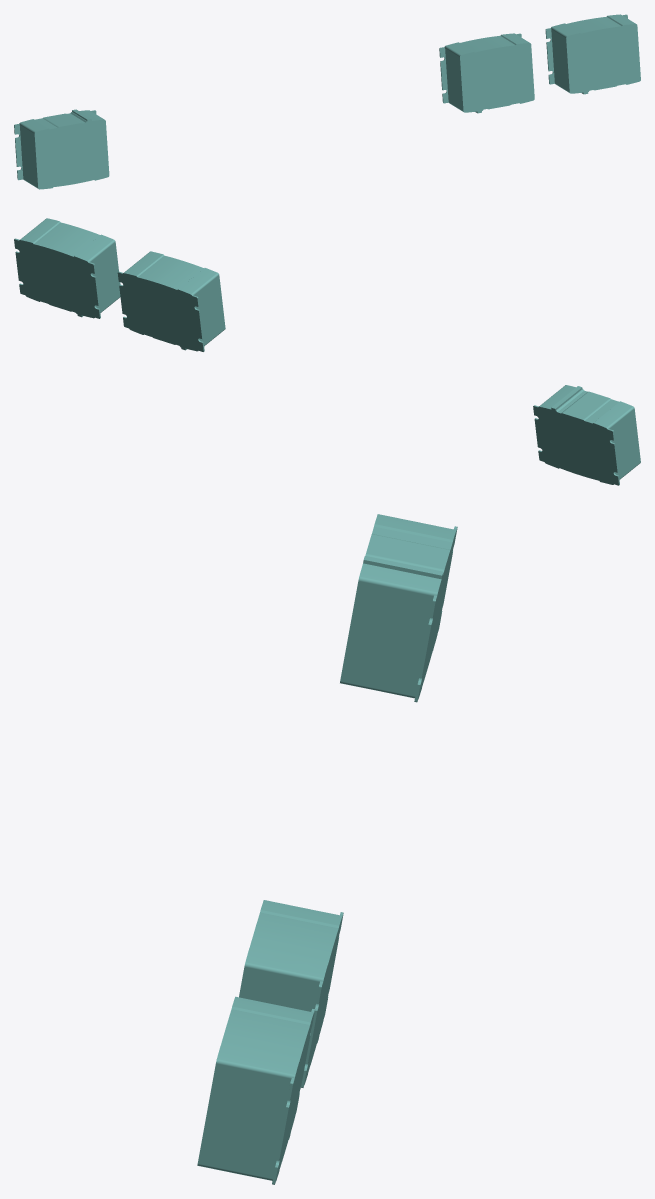
File: POWER ARCHITECTURE__ELEC BOARD COMPONENTS__Orion 360W isolated DC-DC converter.glb
The picture shows the model from 3 angles, top to bottom: view 1: azimuth 30°, elevation 25°; view 2: azimuth 150°, elevation 25°; view 3: azimuth 270°, elevation 25°; orthographic projection. The views are drawn at different scales.
Bounding box in the file's own units: 1.39 × 0.1493 × 0.2732.
